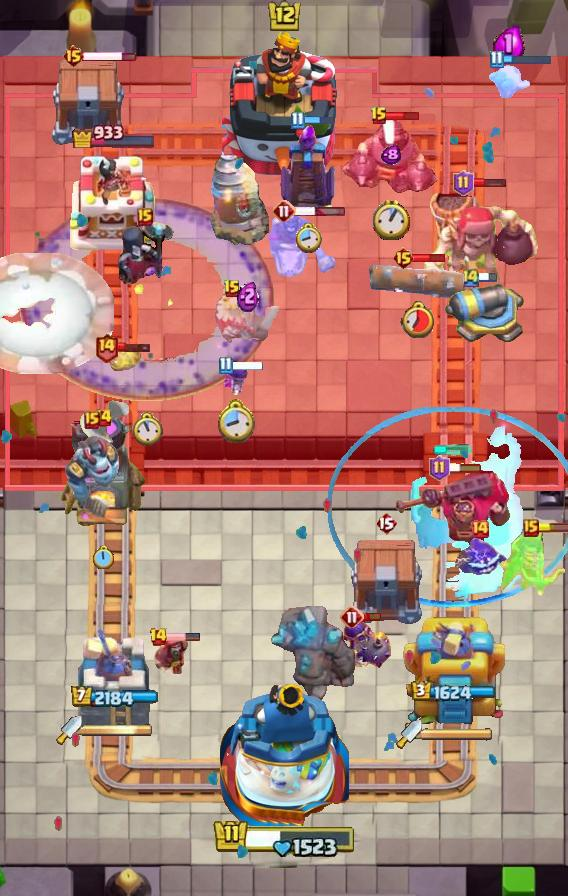bar: (401, 611, 505, 731), (75, 623, 153, 731)
barbarian-hut: (496, 524, 568, 598)
bat: (486, 64, 532, 98)
bomb: (49, 60, 127, 146), (347, 540, 425, 626)
bowler: (153, 634, 191, 680)
cannoneer-tower: (269, 605, 359, 707)
clock: (212, 815, 356, 857)
electro-giant: (420, 184, 540, 294)
electro-spirit: (493, 24, 525, 63), (237, 280, 259, 312), (381, 145, 401, 165)
elixir: (215, 397, 255, 443), (374, 200, 411, 241), (399, 300, 436, 338), (132, 413, 163, 448), (294, 223, 321, 253), (92, 545, 114, 571)
elixir-golem-small: (62, 434, 122, 504)
emote: (83, 49, 138, 63), (501, 54, 553, 66), (294, 206, 346, 217), (472, 176, 508, 188), (116, 341, 152, 353), (447, 462, 483, 474), (387, 110, 422, 122), (412, 252, 447, 264), (165, 632, 201, 642), (302, 115, 334, 126), (232, 361, 265, 371), (536, 523, 568, 533), (362, 610, 382, 622), (478, 273, 498, 284)
freeze: (266, 209, 338, 277)
goblin: (222, 362, 250, 398)
goblin-ball: (339, 617, 393, 673)
hunter: (59, 419, 147, 529)
ice-spirit: (433, 444, 473, 456)
ice-spirit-evolution: (107, 343, 141, 375)
ice-spirit-evolution-symbol: (278, 122, 338, 214)
inferno-tower: (392, 467, 514, 551)
king-tower: (219, 678, 349, 826), (222, 31, 346, 181)
king-tower-bar: (422, 727, 494, 741), (82, 723, 152, 737)
magic-archer: (209, 154, 269, 246)
minion: (367, 263, 469, 299)
mortar-evolution: (214, 287, 282, 355)
pad_0: (326, 407, 568, 609)
queen-tower: (68, 150, 160, 256)
rascal-boy: (114, 220, 176, 290)
rocket: (19, 197, 275, 401)
royal-giant: (80, 398, 136, 454)
royal-guardian: (339, 112, 443, 196)
royal-recruit: (443, 282, 525, 352)
selected: (71, 121, 157, 148), (70, 686, 158, 710), (412, 680, 497, 702)
spear-goblin: (452, 537, 508, 577)
text: (94, 333, 119, 364), (272, 199, 296, 223), (340, 605, 364, 629), (63, 44, 86, 68), (393, 246, 416, 270), (453, 170, 474, 196), (430, 455, 451, 481), (375, 511, 397, 535), (461, 267, 481, 289), (470, 519, 490, 539), (148, 627, 168, 647), (95, 408, 114, 428), (370, 106, 388, 126), (223, 279, 241, 299), (137, 208, 153, 226), (84, 411, 100, 429), (523, 519, 539, 537), (488, 50, 503, 69), (218, 357, 233, 375), (291, 111, 305, 130)
wall-breaker: (0, 253, 114, 374)
